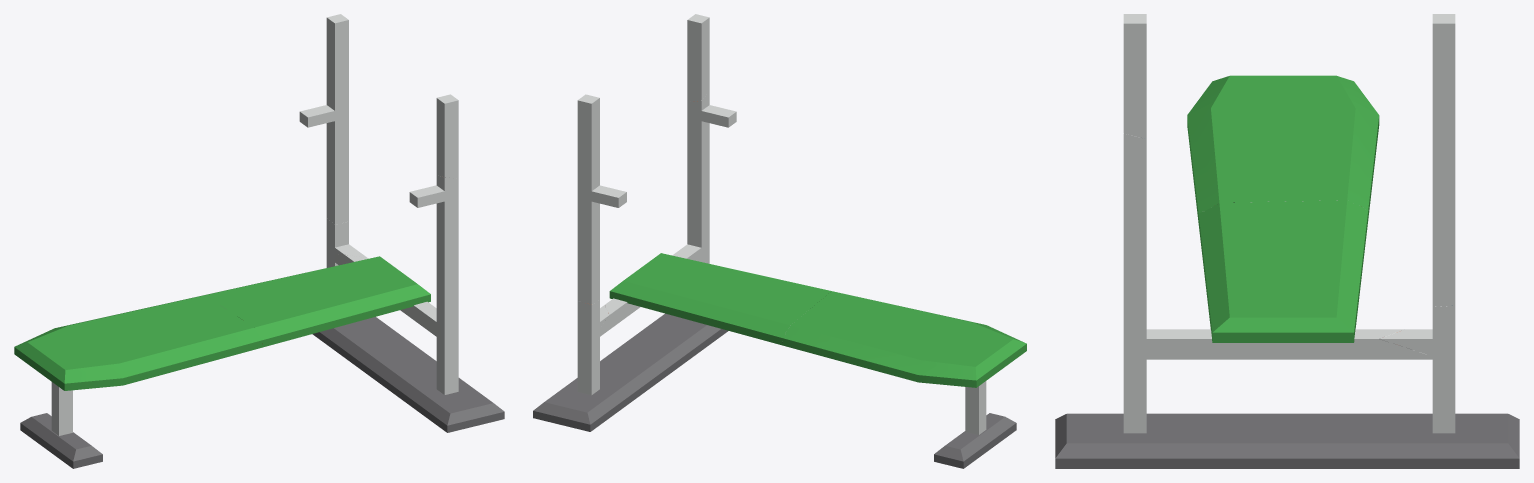
The model's file is Ghe_nang_ta_DEST 1.fbx.
The picture shows the model from 3 angles, left to right: view 1: azimuth 30°, elevation 25°; view 2: azimuth 150°, elevation 25°; view 3: azimuth 270°, elevation 25°; orthographic projection. The views are drawn at different scales.
Visible parts, largest first — view 1: Mesh_polySurface118.006_cell.001, Mesh_polySurface118.006_cell, Mesh_polySurface118.003, Mesh_polySurface118.005_cell.001, Mesh_polySurface118.001_cell.001, Mesh_polySurface118.004, Mesh_polySurface118.005_cell, Mesh_polySurface118_cell, Mesh_polySurface118.001_cell; view 2: Mesh_polySurface118.006_cell.001, Mesh_polySurface118.006_cell, Mesh_polySurface118.003, Mesh_polySurface118.001_cell.001, Mesh_polySurface118.005_cell.001, Mesh_polySurface118.004, Mesh_polySurface118.001_cell, Mesh_polySurface118.005_cell, Mesh_polySurface118_cell; view 3: Mesh_polySurface118.003, Mesh_polySurface118.006_cell.001, Mesh_polySurface118.006_cell, Mesh_polySurface118.005_cell.001, Mesh_polySurface118.001_cell.001, Mesh_polySurface118_cell, Mesh_polySurface118.001_cell, Mesh_polySurface118.005_cell, Mesh_polySurface118_cell.001.
Boxes of the visible parts, bbox=[...] form: Mesh_polySurface118.006_cell.001: bbox=[14, 295, 262, 390]; Mesh_polySurface118.006_cell: bbox=[203, 256, 430, 347]; Mesh_polySurface118.003: bbox=[312, 317, 504, 432]; Mesh_polySurface118.005_cell.001: bbox=[409, 175, 458, 394]; Mesh_polySurface118.001_cell.001: bbox=[299, 14, 348, 224]; Mesh_polySurface118.004: bbox=[20, 382, 102, 468]; Mesh_polySurface118.005_cell: bbox=[436, 94, 458, 178]; Mesh_polySurface118_cell: bbox=[330, 254, 440, 339]; Mesh_polySurface118.001_cell: bbox=[326, 218, 348, 267]; Mesh_polySurface118.006_cell.001: bbox=[782, 291, 1026, 387]; Mesh_polySurface118.006_cell: bbox=[609, 253, 831, 345]; Mesh_polySurface118.003: bbox=[533, 313, 728, 431]; Mesh_polySurface118.001_cell.001: bbox=[577, 94, 626, 304]; Mesh_polySurface118.005_cell.001: bbox=[687, 91, 736, 263]; Mesh_polySurface118.004: bbox=[934, 381, 1016, 468]; Mesh_polySurface118.001_cell: bbox=[577, 300, 599, 395]; Mesh_polySurface118.005_cell: bbox=[687, 14, 709, 101]; Mesh_polySurface118_cell: bbox=[595, 244, 705, 339]; Mesh_polySurface118.003: bbox=[1055, 413, 1519, 468]; Mesh_polySurface118.006_cell.001: bbox=[1187, 75, 1379, 222]; Mesh_polySurface118.006_cell: bbox=[1198, 200, 1368, 342]; Mesh_polySurface118.005_cell.001: bbox=[1123, 134, 1146, 433]; Mesh_polySurface118.001_cell.001: bbox=[1432, 14, 1455, 306]; Mesh_polySurface118_cell: bbox=[1146, 329, 1432, 359]; Mesh_polySurface118.001_cell: bbox=[1432, 305, 1455, 433]; Mesh_polySurface118.005_cell: bbox=[1123, 14, 1146, 138]; Mesh_polySurface118_cell.001: bbox=[1380, 329, 1432, 356].
Size of the model in its own units: 14.7 by 11.19 by 10.94.
